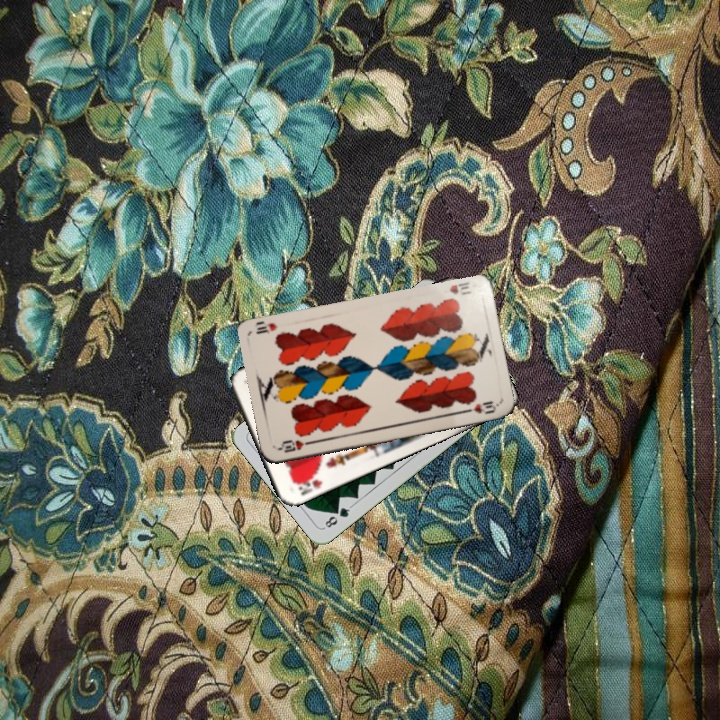G8: (320, 501, 354, 531)
H10: (274, 436, 315, 455), (446, 279, 474, 298)
HK: (289, 469, 325, 498)
